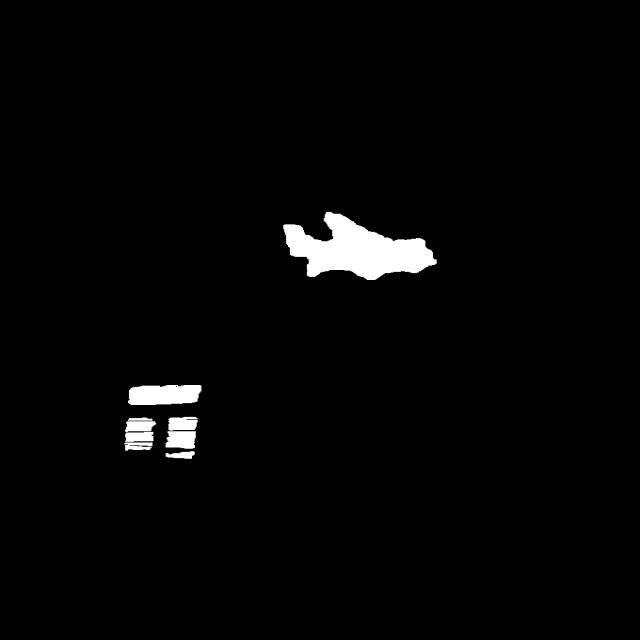fire: (141, 194, 553, 336), (64, 368, 264, 504)
